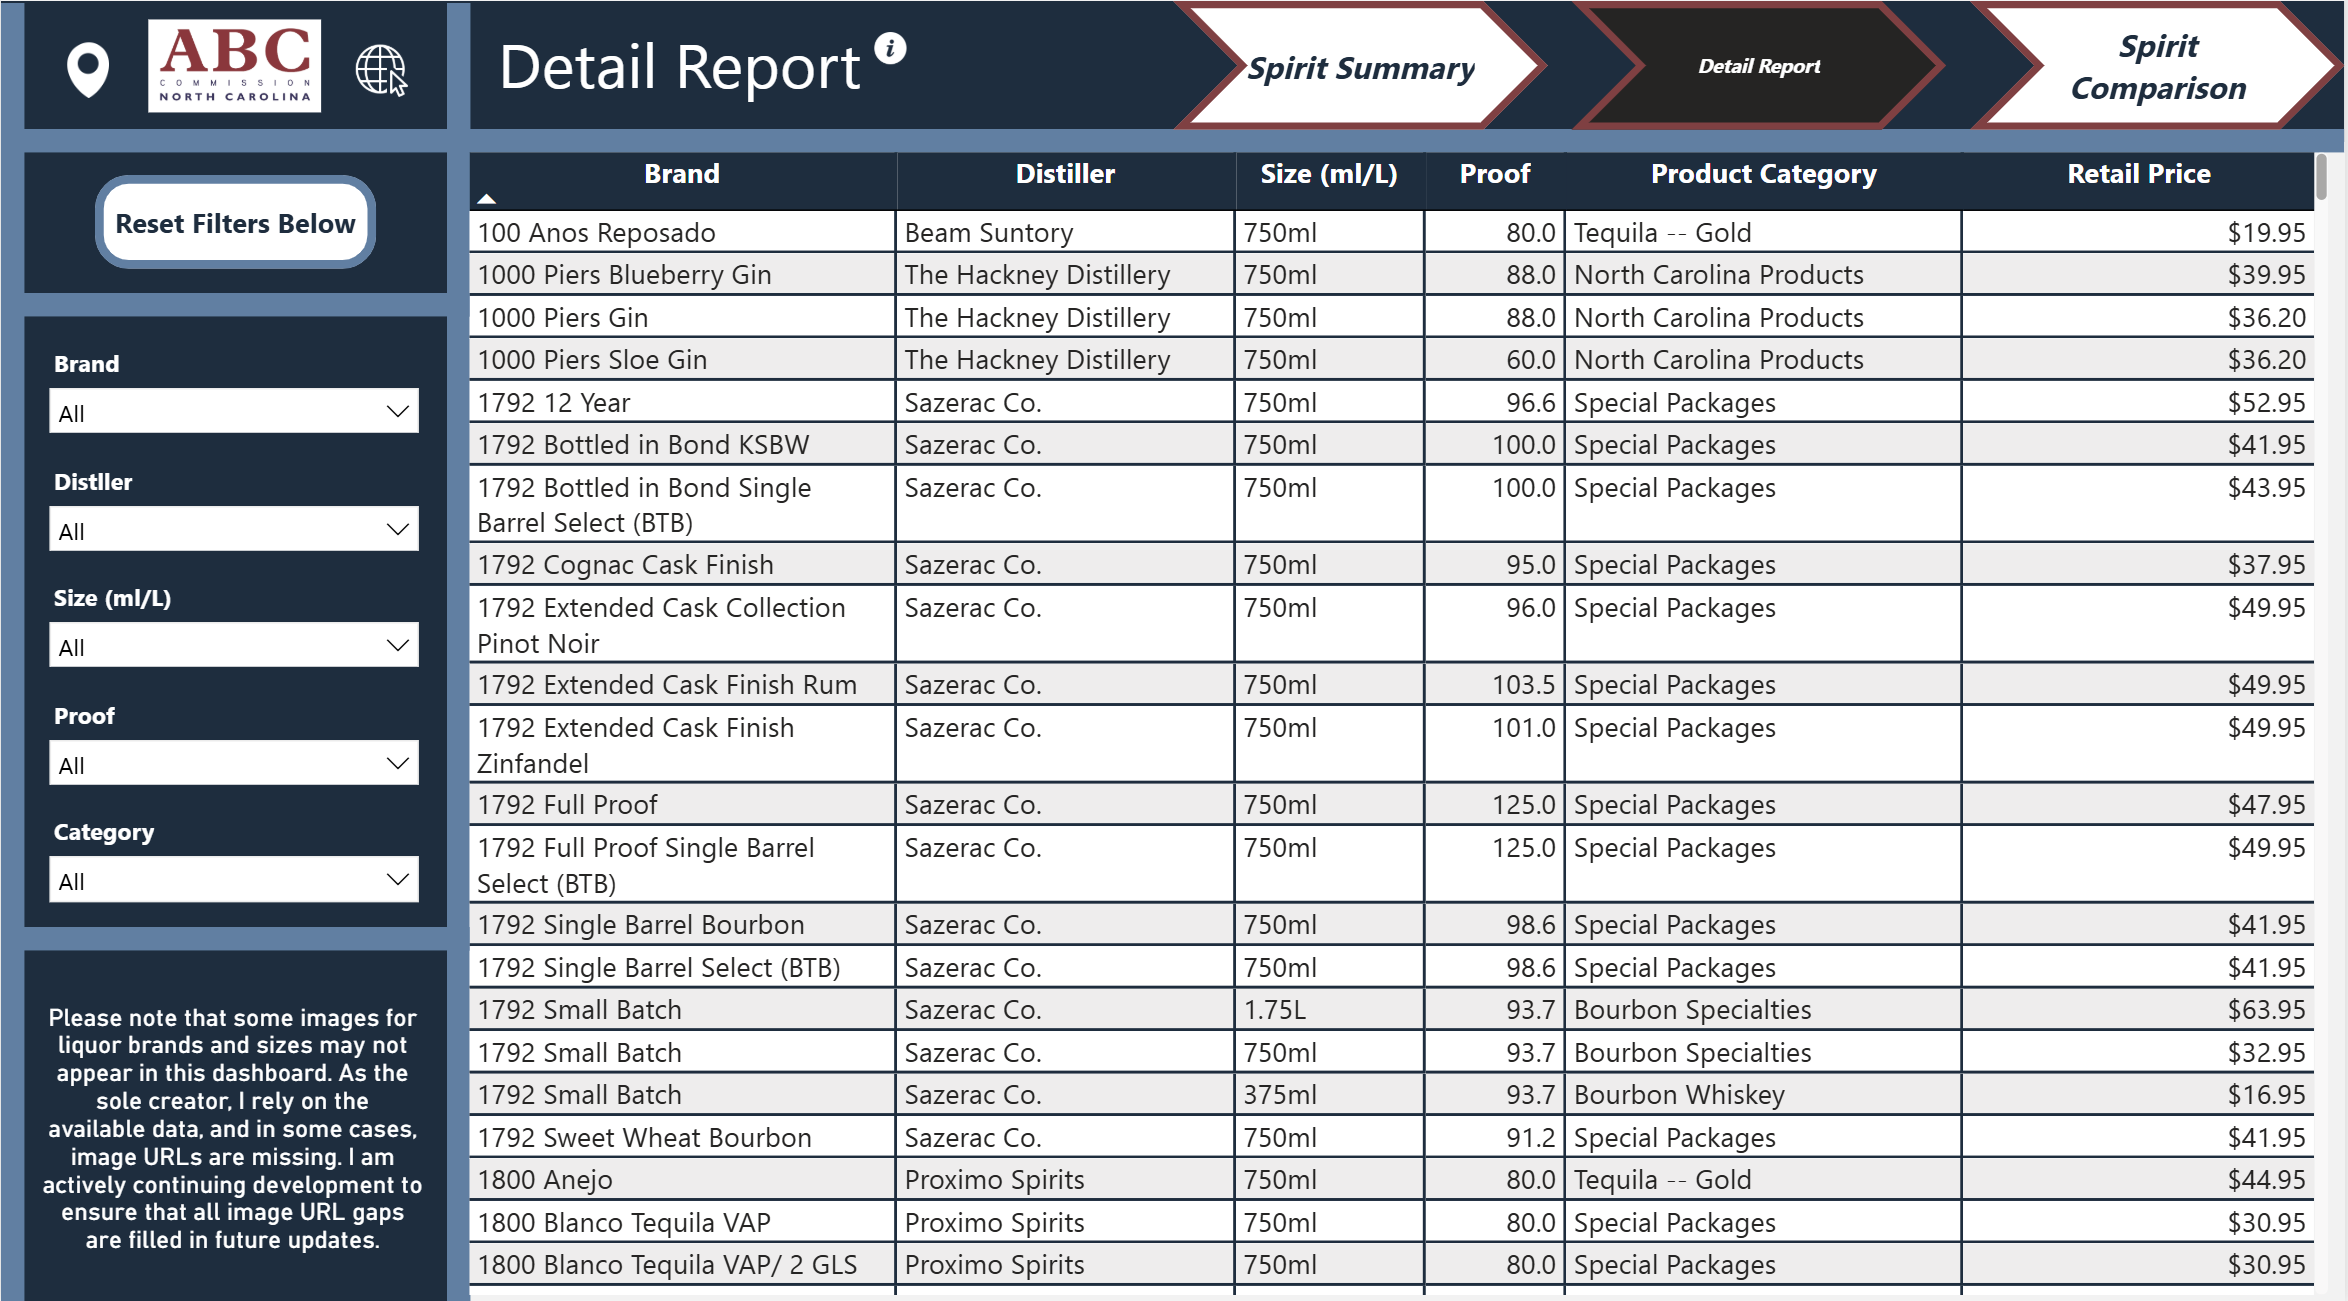

Layout of this report page (visuals, bound fields, positions):
{"tool":"powerbi","page":{"name":"Detail Report","canvas":[1600,900],"ordinal":1},"visuals":[{"type":"slicer","title":"Selected Metric Slicer","fields":{"Values":["Final Product List.brand_name"]},"box":[23,239,272,64],"z":0,"group":"g1"},{"type":"shape","box":[0,16,305,880],"z":0},{"type":"shape","box":[0,8,1600,96],"z":1000},{"type":"slicer","title":"Selected Metric Slicer","fields":{"Values":["Final Product List.supplier"]},"box":[23,319,272,64],"z":1000,"group":"g1"},{"type":"textbox","box":[144,16,640,80],"z":2000},{"type":"slicer","title":"Selected Metric Slicer","fields":{"Values":["Final Product List.size_with_proper_units"]},"box":[23,399,272,64],"z":2000,"group":"g1"},{"type":"shape","box":[0,96,1600,16],"z":3000},{"type":"slicer","title":"Selected Metric Slicer","fields":{"Values":["Final Product List.proof"]},"box":[23,479,272,64],"z":3000,"group":"g1"},{"type":"shape","box":[304,9,16,887],"z":4000},{"type":"slicer","title":"Selected Metric Slicer","fields":{"Values":["Final Product List.product_category"]},"box":[23,559,272,80],"z":4000,"group":"g1"},{"type":"image","box":[96,12,128,80],"z":5000},{"type":"actionButton","title":"Supplier Info Icon","box":[1504,438,32,32],"z":6000},{"type":"actionButton","box":[64,127,192,64],"z":7000},{"type":"tableEx","fields":{"Values":["Final Product List.Brand","Final Product List.Distiller","Final Product List.size_with_proper_units","Sum(Final Product List.proof)","Final Product List.product_category","Sum(Final Product List.retail_price)"]},"box":[314,106,1280,790],"z":8000},{"type":"shape","box":[0,9,16,887],"z":9000},{"type":"shape","box":[0,208,320,16],"z":10000},{"type":"group","id":"g1","title":"Left Side Slicer Group","box":[23,239,272,400],"z":11000},{"type":"shape","box":[0,640,320,16],"z":12000},{"type":"pageNavigator","box":[800,8,800,88],"z":13000},{"type":"image","box":[212,32,96,48],"z":14000},{"type":"card","fields":{"Values":["Metric Selector.Disclaimer"]},"box":[16,656,288,224],"z":15000},{"type":"image","box":[35,32,48,48],"z":16000},{"type":"image","box":[592,16,32,48],"z":17000}]}

Visuals, with their boxes in screenshot pixels (x1, y1, x2, y2), scaled from the page's 1600x900 canvas onto the 2348x1301 screenshot:
"Selected Metric Slicer" slicer: left=34, top=345, right=433, bottom=438
shape: left=0, top=23, right=448, bottom=1295
shape: left=0, top=12, right=2347, bottom=150
"Selected Metric Slicer" slicer: left=34, top=461, right=433, bottom=554
textbox: left=211, top=23, right=1151, bottom=139
"Selected Metric Slicer" slicer: left=34, top=577, right=433, bottom=669
shape: left=0, top=139, right=2347, bottom=162
"Selected Metric Slicer" slicer: left=34, top=692, right=433, bottom=785
shape: left=446, top=13, right=470, bottom=1295
"Selected Metric Slicer" slicer: left=34, top=808, right=433, bottom=924
image: left=141, top=17, right=329, bottom=133
"Supplier Info Icon" actionButton: left=2207, top=633, right=2254, bottom=679
actionButton: left=94, top=184, right=376, bottom=276
tableEx - Final Product List.Brand x Final Product List.Distiller: left=461, top=153, right=2339, bottom=1295
shape: left=0, top=13, right=23, bottom=1295
shape: left=0, top=301, right=470, bottom=324
"Left Side Slicer Group" group: left=34, top=345, right=433, bottom=924
shape: left=0, top=925, right=470, bottom=948
pageNavigator: left=1174, top=12, right=2347, bottom=139
image: left=311, top=46, right=452, bottom=116
card - Metric Selector.Disclaimer: left=23, top=948, right=446, bottom=1272
image: left=51, top=46, right=122, bottom=116
image: left=869, top=23, right=916, bottom=93
